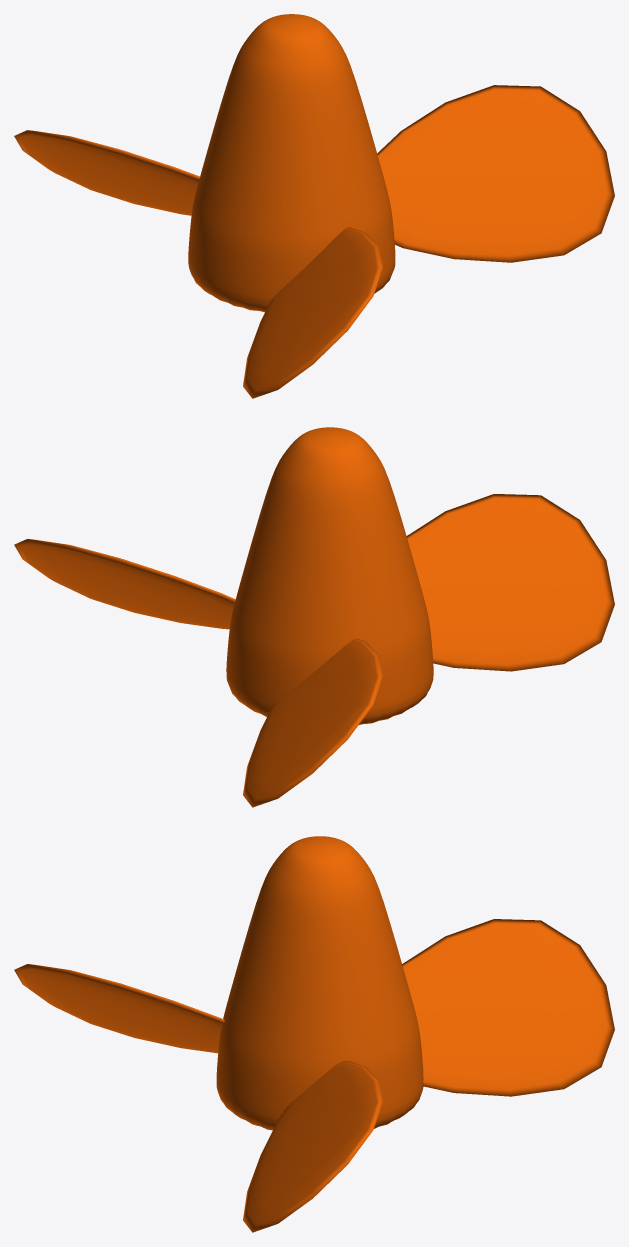
The model's file is fanYe.glb.
3 views of the same model, one above another, from view 1: azimuth 30°, elevation 25°; view 2: azimuth 150°, elevation 25°; view 3: azimuth 270°, elevation 25° (orthographic).
Parts seen in each view (by area): view 1: 立方体.001; view 2: 立方体.001; view 3: 立方体.001.
Boxes of the visible parts, x1=… form: 立方体.001: x1=14, y1=14, x2=614, y2=398; 立方体.001: x1=14, y1=427, x2=614, y2=807; 立方体.001: x1=14, y1=836, x2=614, y2=1232.
Size of the model in its own units: 1.04 by 0.5619 by 1.16.
